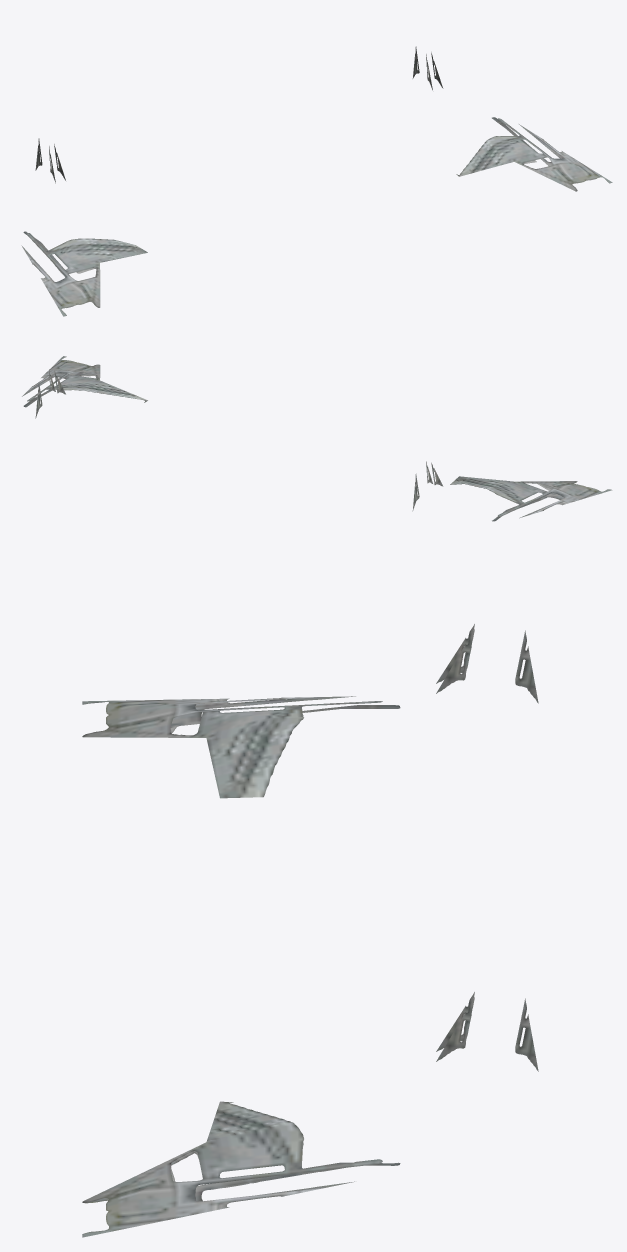
File: kse_firespray_struct_s02_l3.fbx
3 views of the same model, one above another, from view 1: azimuth 30°, elevation 25°; view 2: azimuth 150°, elevation 25°; view 3: azimuth 270°, elevation 25° (orthographic). The views are drawn at different scales.
Visible parts, largest first — view 1: mesh_node; view 2: mesh_node; view 3: mesh_node.
Boxes of the visible parts, x1=… form: mesh_node: x1=21, y1=46, x2=612, y2=316; mesh_node: x1=22, y1=356, x2=612, y2=521; mesh_node: x1=82, y1=624, x2=538, y2=1237.
Bounding box in the file's own units: 24.26 × 4.67 × 8.84.
1 material, 1 textured.
